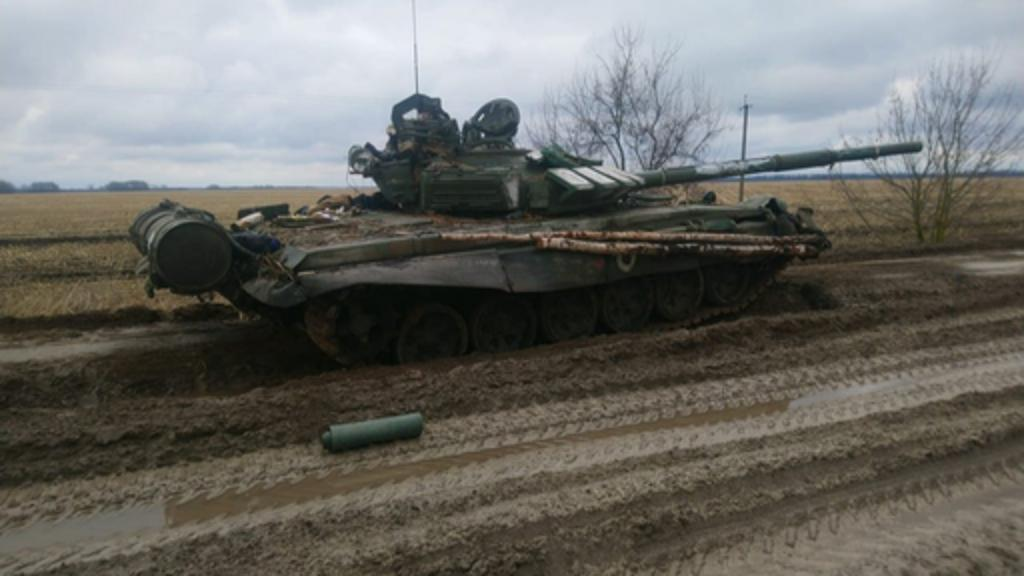TANK: (128, 104, 930, 416)
